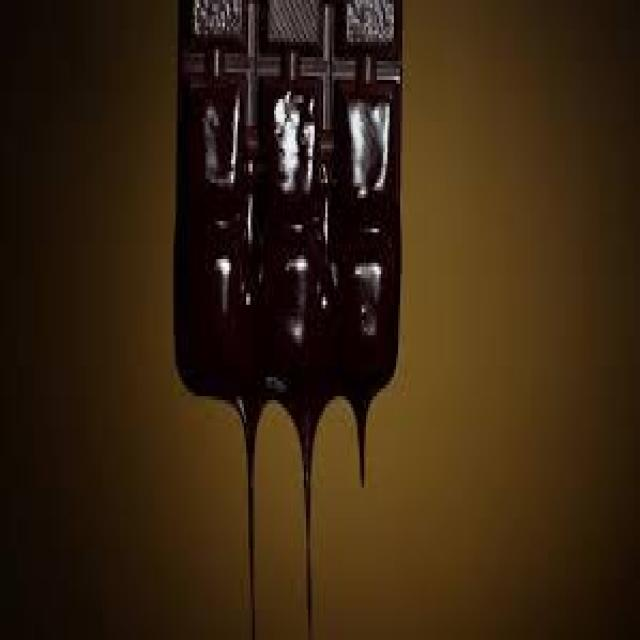Chocolate: (173, 0, 400, 398)
